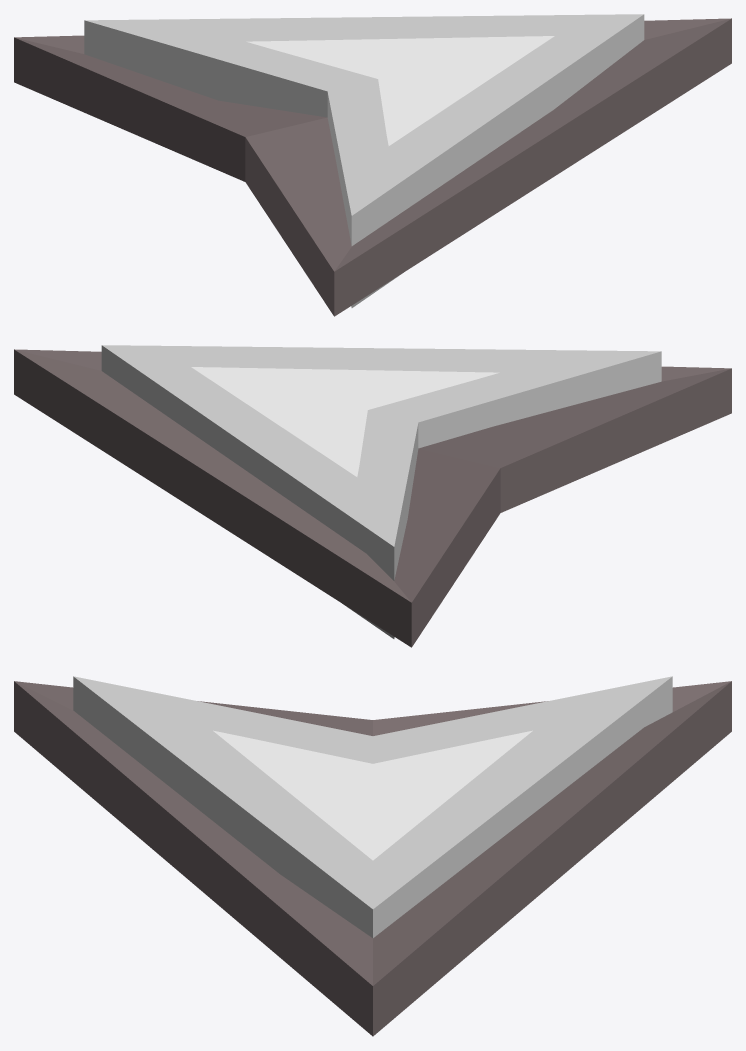
The model's file is PullOutBlockSingle.fbx.
3 views of the same model, one above another, from view 1: azimuth 30°, elevation 25°; view 2: azimuth 150°, elevation 25°; view 3: azimuth 270°, elevation 25° (orthographic). The views are drawn at different scales.
Parts seen in each view (by area): view 1: Button, ButtonBase; view 2: ButtonBase, Button; view 3: Button, ButtonBase.
Boxes of the visible parts, left/top/right/bottom form: Button: left=84, top=14, right=644, bottom=307; ButtonBase: left=14, top=18, right=731, bottom=316; ButtonBase: left=14, top=349, right=731, bottom=647; Button: left=101, top=345, right=661, bottom=638; Button: left=73, top=676, right=672, bottom=937; ButtonBase: left=14, top=681, right=731, bottom=1036.
Size of the model in its own units: 156 by 24.67 by 155.
